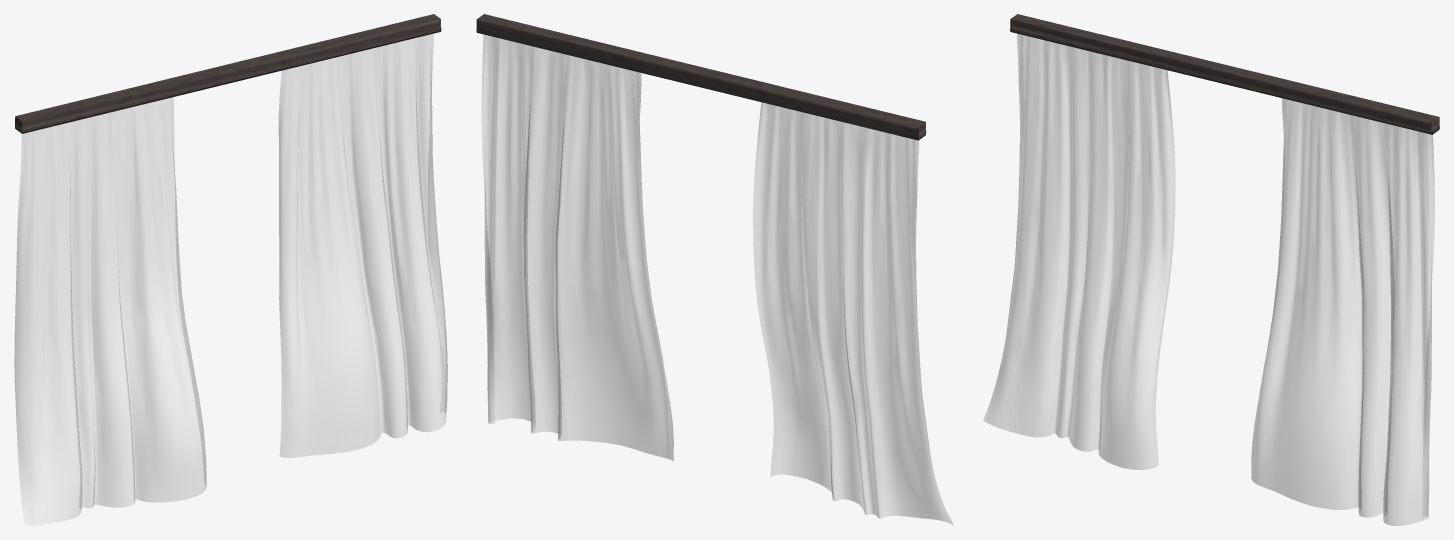
The model's file is cortina_gris.glb.
3 views of the same model, side by side, from view 1: azimuth 30°, elevation 25°; view 2: azimuth 150°, elevation 25°; view 3: azimuth 330°, elevation 25° (orthographic). The views are drawn at different scales.
Visible parts, largest first — view 1: Cube_curtain_holder_0; view 2: Cube_curtain_holder_0; view 3: Cube_curtain_holder_0.
Boxes of the visible parts, x1,y1,x2,y2 form: Cube_curtain_holder_0: (14, 14, 447, 525); Cube_curtain_holder_0: (476, 14, 953, 525); Cube_curtain_holder_0: (983, 14, 1439, 525).
Bounding box in the file's own units: 3.33 × 2.9 × 0.4749.
Materials: 2 (2 with a texture image).
